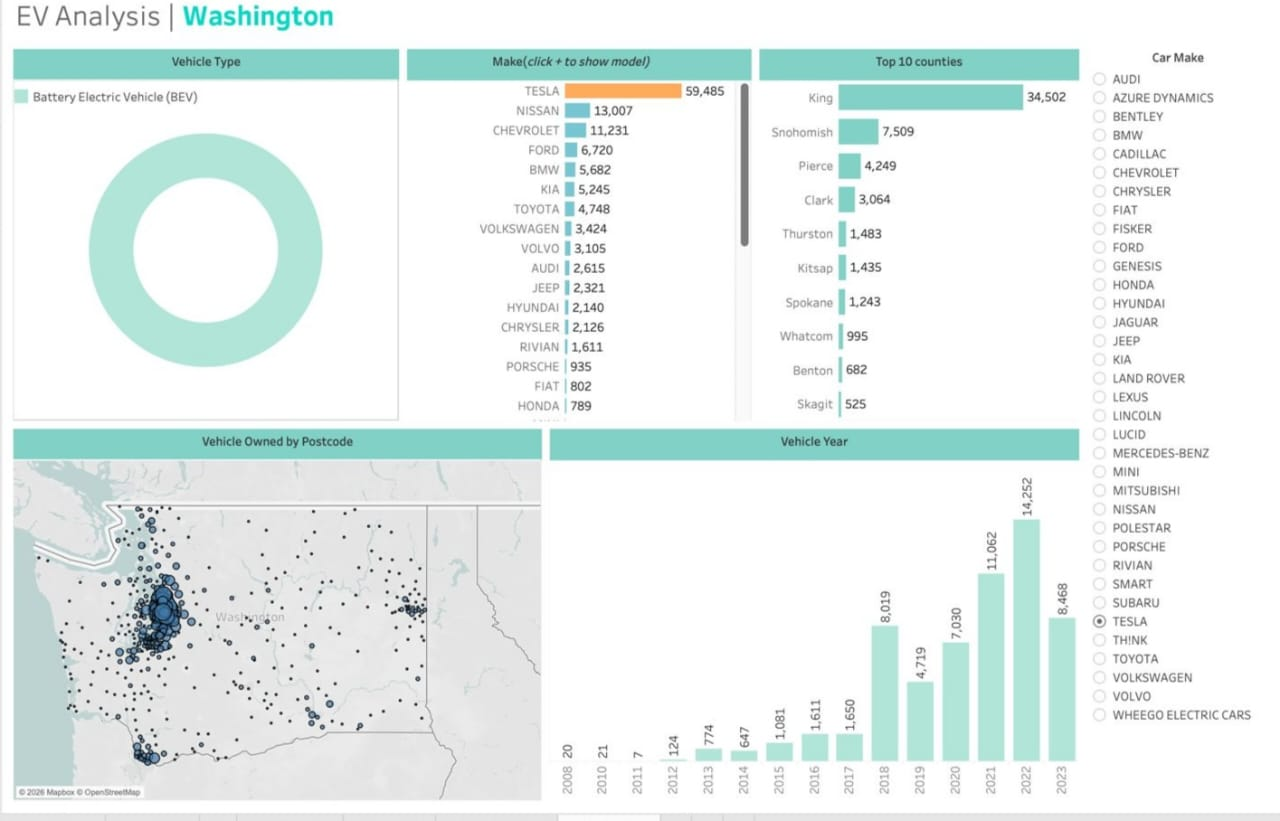

This screenshot's page, from the dashboard's own definition file:
{"tool":"tableau","page":{"name":"Dashboard 1","canvas":[1300,850],"ordinal":0},"visuals":[{"type":"text","box":[8,8,1284,62.1]},{"type":"worksheet","title":"Vehicle Type Donut","mark":"Pie","rows":["Calculation_0354000409198594","Calculation_0354000409198594"],"box":[8,70.1,399.7,386]},{"type":"worksheet","title":"Make & Model","mark":"Automatic","rows":["Make"],"cols":["DOL Vehicle ID"],"box":[407.7,70.1,358.5,386]},{"type":"worksheet","title":"Top 10 Counties","mark":"Automatic","rows":["County"],"cols":["DOL Vehicle ID"],"box":[766.2,70.1,332.8,386]},{"type":"parameter","param":"[Parameters].[Parameter 1]","box":[1099,70.1,193,702]},{"type":"legend","title":"Vehicle Type Donut","param":"[federated.0u8l1bv1nl4miz18bntms160w3fm].[none:Electric Vehicle Type:nk]","box":[10.5,111.8,407.3,34.3]},{"type":"worksheet","title":"Map","mark":"Automatic","box":[8,456.1,545.5,386]},{"type":"worksheet","title":"Year and Type","mark":"Bar","rows":["DOL Vehicle ID"],"cols":["Model Year"],"box":[553.5,456.1,545.5,386]}]}

Visuals, with their boxes in screenshot pixels (x1, y1, x2, y2), scaled from the page's 1300x850 canvas onto the 1280x821 screenshot:
text: [8,8,1272,68]
"Vehicle Type Donut" worksheet (Pie marks): [8,68,401,441]
"Make & Model" worksheet: [401,68,754,441]
"Top 10 Counties" worksheet: [754,68,1082,441]
parameter: [1082,68,1272,746]
"Vehicle Type Donut" legend: [10,108,411,141]
"Map" worksheet: [8,441,545,813]
"Year and Type" worksheet (Bar marks): [545,441,1082,813]
